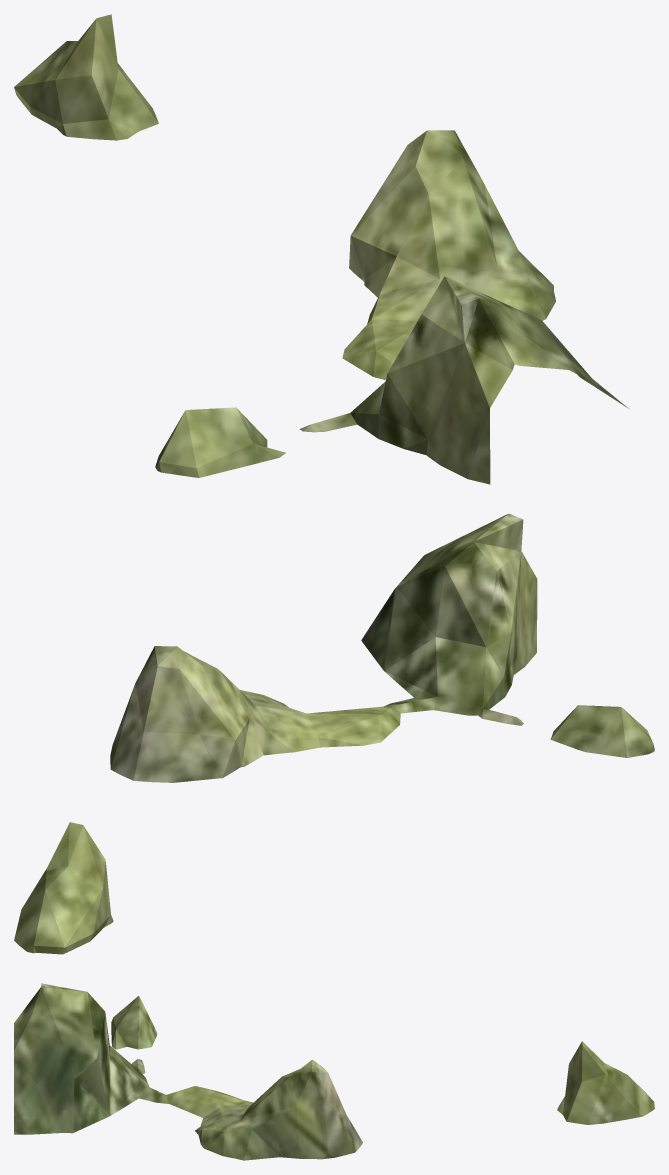
The picture shows the model from 3 angles, top to bottom: view 1: azimuth 30°, elevation 25°; view 2: azimuth 150°, elevation 25°; view 3: azimuth 270°, elevation 25°; orthographic projection. The views are drawn at different scales.
Bounding box in the file's own units: 2.46 × 0.8087 × 4.6.
Materials: 1 (1 with a texture image).
